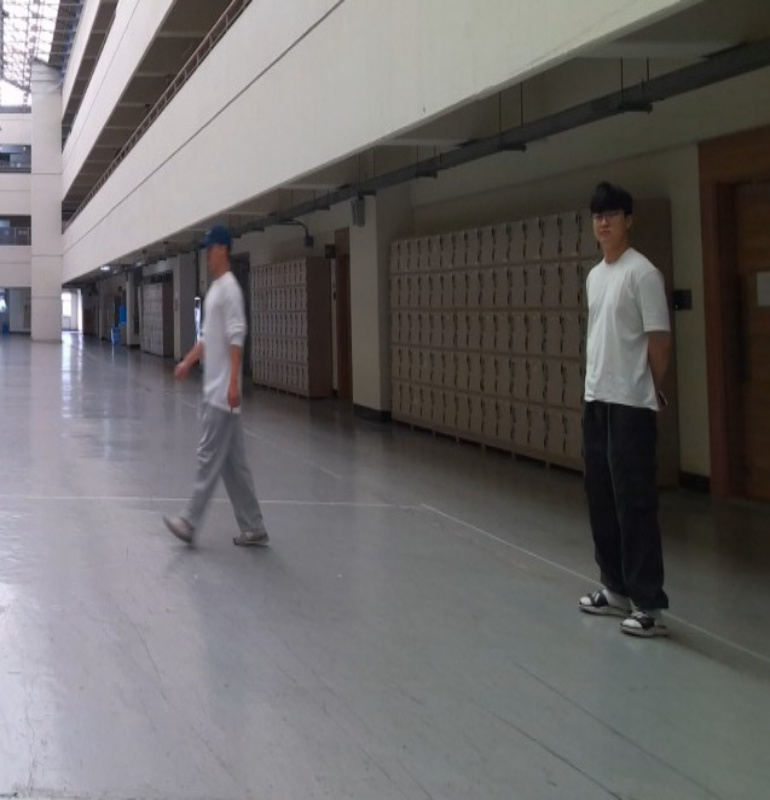person: (580, 179, 681, 637)
